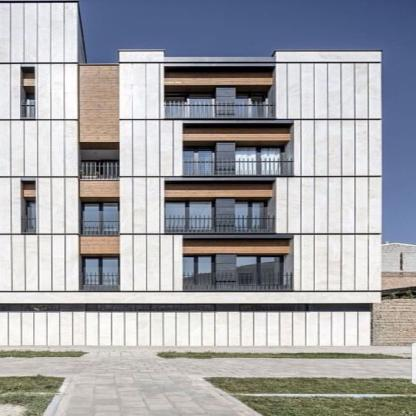Building Outline: (0, 0, 382, 346)
Facade: (0, 64, 382, 346)
Floor: (0, 190, 382, 243), (0, 134, 382, 186), (0, 247, 382, 296)
Floor Slab: (0, 130, 382, 134), (0, 186, 382, 190), (0, 296, 382, 300), (0, 243, 382, 247)
Ground Floor: (0, 300, 372, 346)
Top Floor: (0, 64, 382, 130)
Window: (165, 200, 216, 232), (237, 255, 283, 289), (235, 146, 284, 175), (80, 201, 120, 235), (165, 91, 216, 117), (82, 256, 120, 290), (183, 255, 216, 289), (236, 200, 269, 232), (182, 146, 216, 175), (237, 91, 268, 117), (86, 304, 216, 310), (80, 160, 120, 179), (240, 304, 308, 310), (0, 304, 60, 310), (27, 201, 36, 233), (26, 92, 35, 118)
Window Hole: (235, 141, 290, 175), (164, 197, 217, 232), (237, 253, 288, 289), (165, 85, 216, 118), (80, 197, 120, 235), (79, 142, 119, 180), (80, 254, 120, 290), (235, 197, 272, 232), (183, 254, 216, 290), (182, 141, 216, 175), (237, 85, 268, 118), (22, 197, 37, 232), (21, 86, 36, 118)
